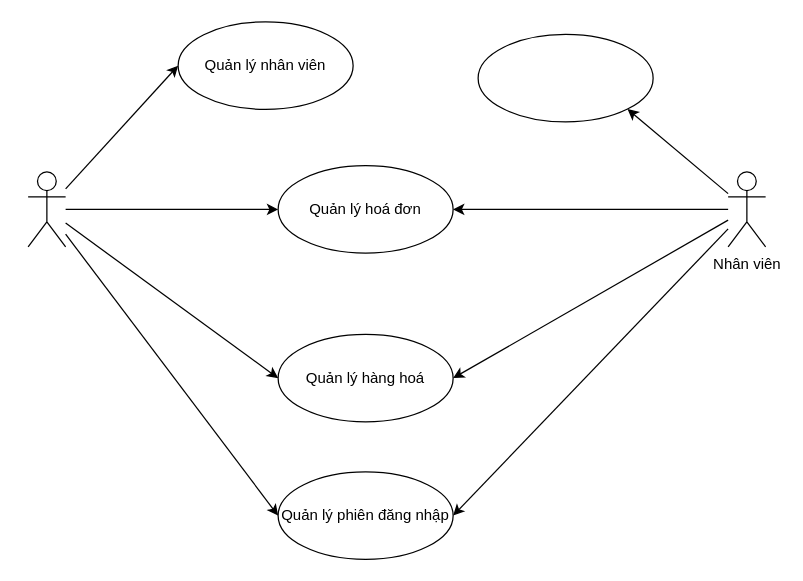
The diagram is 803 pixels wide and 581 high, and some of its shapes have lost their labels. The centre of each missing label's shape, as x and y in pixels:
Bán hàng: the point at 565,77
Quản lý: the point at 46,209
